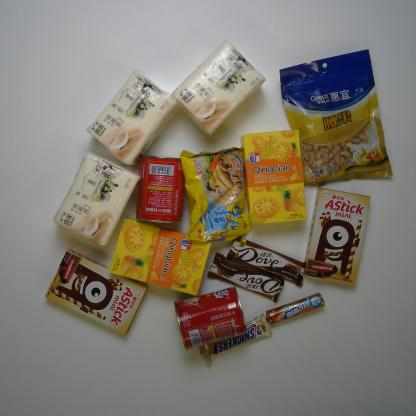Candy: (265, 289, 328, 332)
Canned Food: (167, 284, 251, 350), (133, 155, 189, 226)
Chocolate: (202, 250, 285, 304), (195, 314, 283, 363), (227, 234, 309, 286)
Dessert: (100, 214, 220, 298), (44, 247, 147, 342), (301, 184, 371, 296), (234, 127, 313, 226)
Dried Fruit: (278, 47, 402, 184)
Instant Noodles: (173, 146, 260, 242)
Tissue: (82, 70, 187, 167), (54, 151, 143, 253), (172, 40, 266, 136)
